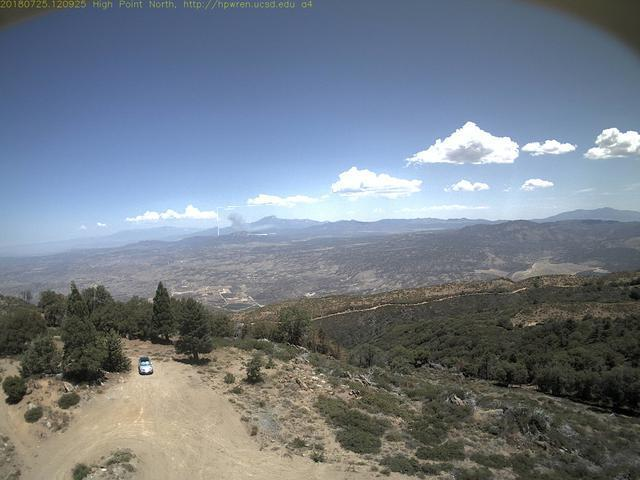smoke: (219, 206, 278, 237)
